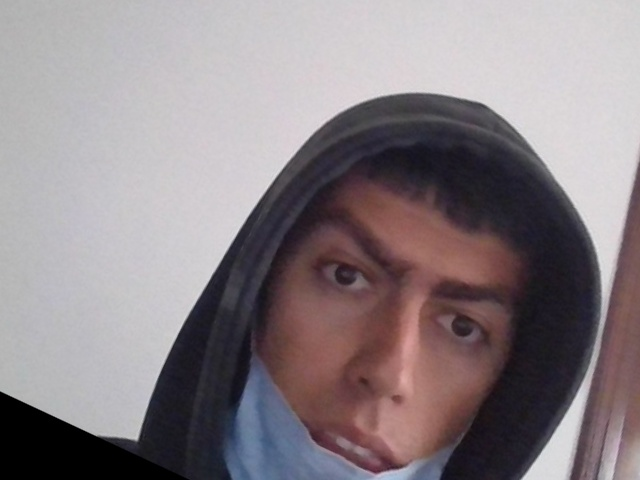mask_weared_incorrect: (235, 136, 513, 480)
